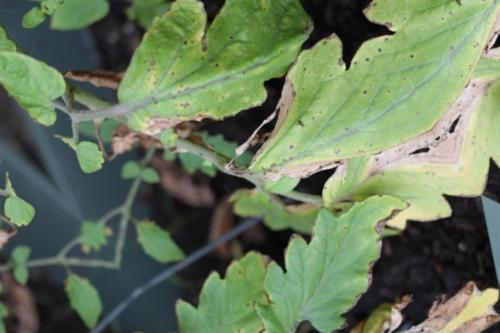Tomato Early blight leaf: (205, 16, 434, 240), (86, 0, 339, 176), (216, 160, 446, 333)
